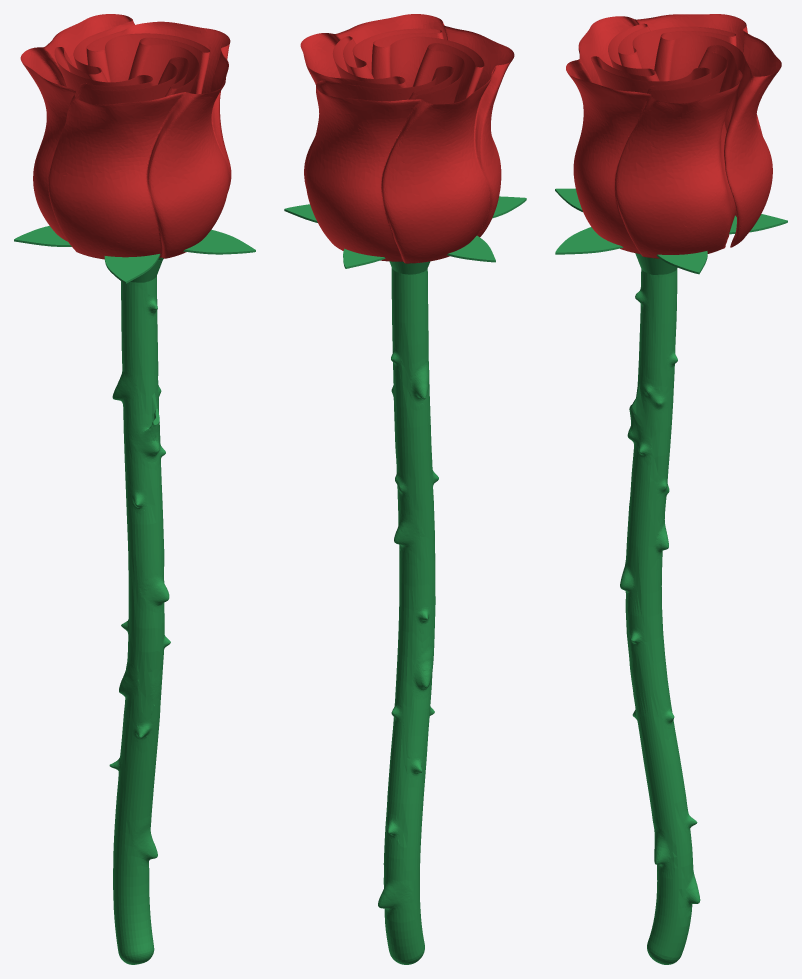
Rendered from rose.glb.
3 renders of one model, left to right at view 1: azimuth 30°, elevation 25°; view 2: azimuth 150°, elevation 25°; view 3: azimuth 270°, elevation 25°, orthographic.
Visible parts, largest first — view 1: 00-stem; view 2: 00-stem; view 3: 00-stem.
Part boxes in pixels (<box>): 00-stem: <box>14,14,255,964</box>; 00-stem: <box>284,14,526,964</box>; 00-stem: <box>555,14,787,964</box>.
Size of the model in its own units: 57 by 233 by 54.26.
